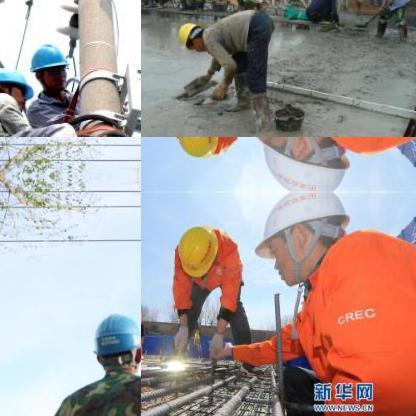Helmet: (250, 190, 354, 278), (249, 137, 355, 192), (87, 307, 140, 377), (172, 221, 226, 288), (25, 39, 69, 93), (0, 66, 37, 111), (172, 137, 228, 161), (174, 19, 207, 49)
